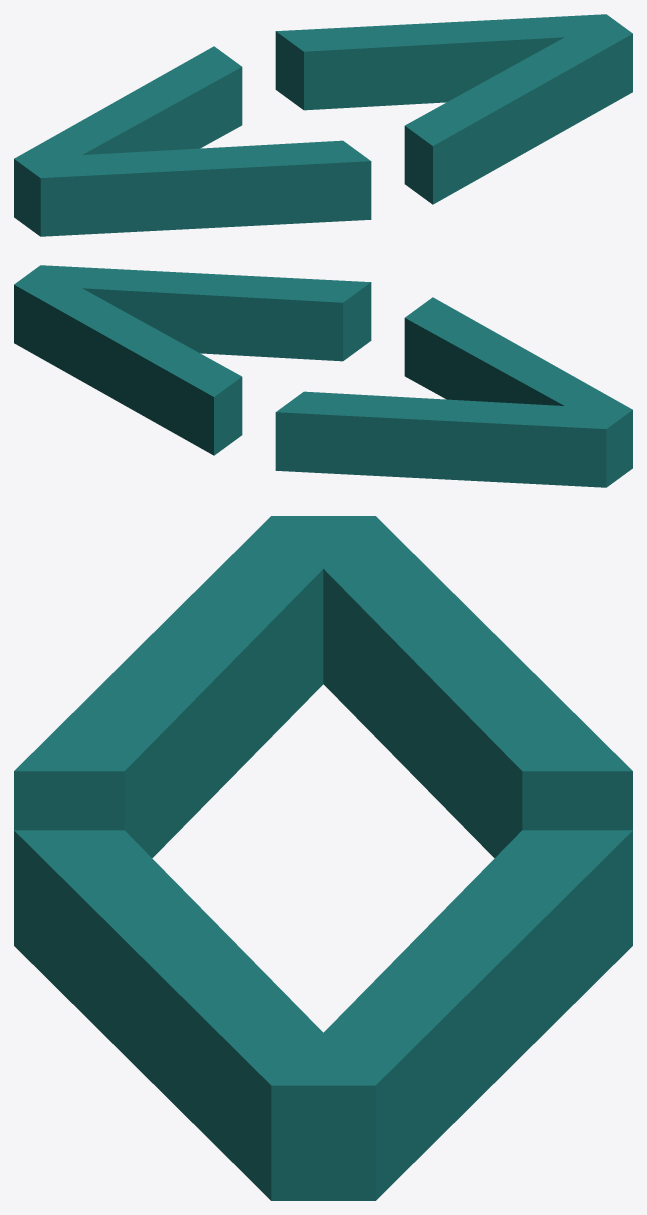
File: code.glb
3 views of the same model, one above another, from view 1: azimuth 30°, elevation 25°; view 2: azimuth 150°, elevation 25°; view 3: azimuth 270°, elevation 25° (orthographic). The views are drawn at different scales.
Parts seen in each view (by area): view 1: text; view 2: text; view 3: text.
Part boxes in pixels (x1,y1,x2,y2): text: [14, 14, 632, 236]; text: [14, 265, 632, 487]; text: [14, 516, 632, 1200].
Size of the model in its own units: 3.17 by 0.3 by 1.46.
